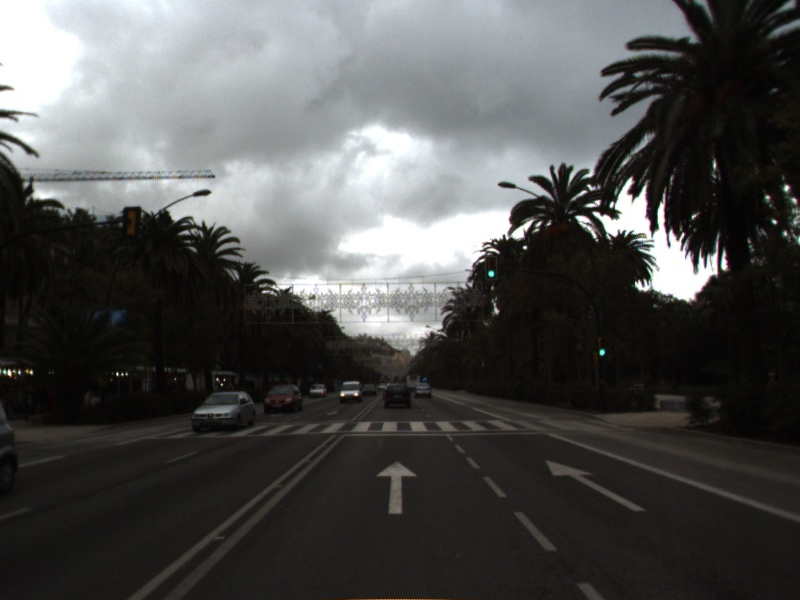STRAIGHT: (543, 458, 648, 514), (374, 458, 420, 516)
